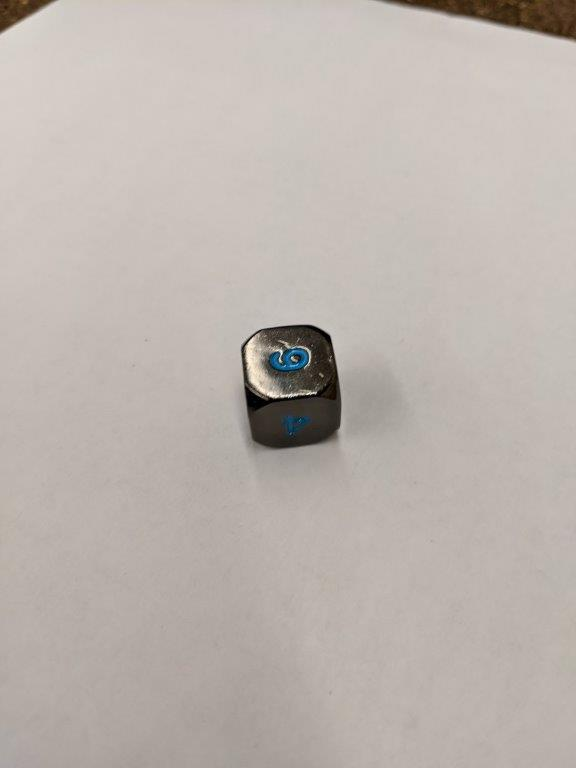d6-6: (242, 325, 346, 455)
